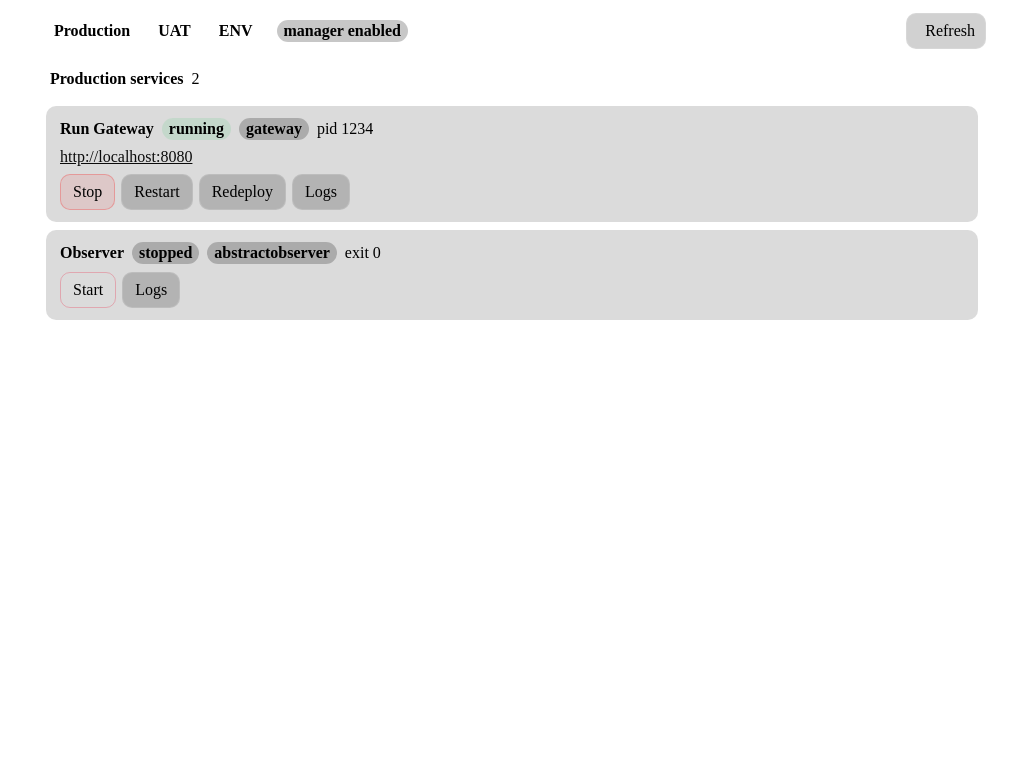
Scenario: ProcessesPage › opens the log modal and tails process logs
The image size is (1024, 768).
Expected: the text "Run Gateway" is shown, [60,120,154,138]
Click the button "Logs" below "http://localhost:8080": (321, 192) [292,174,350,210]
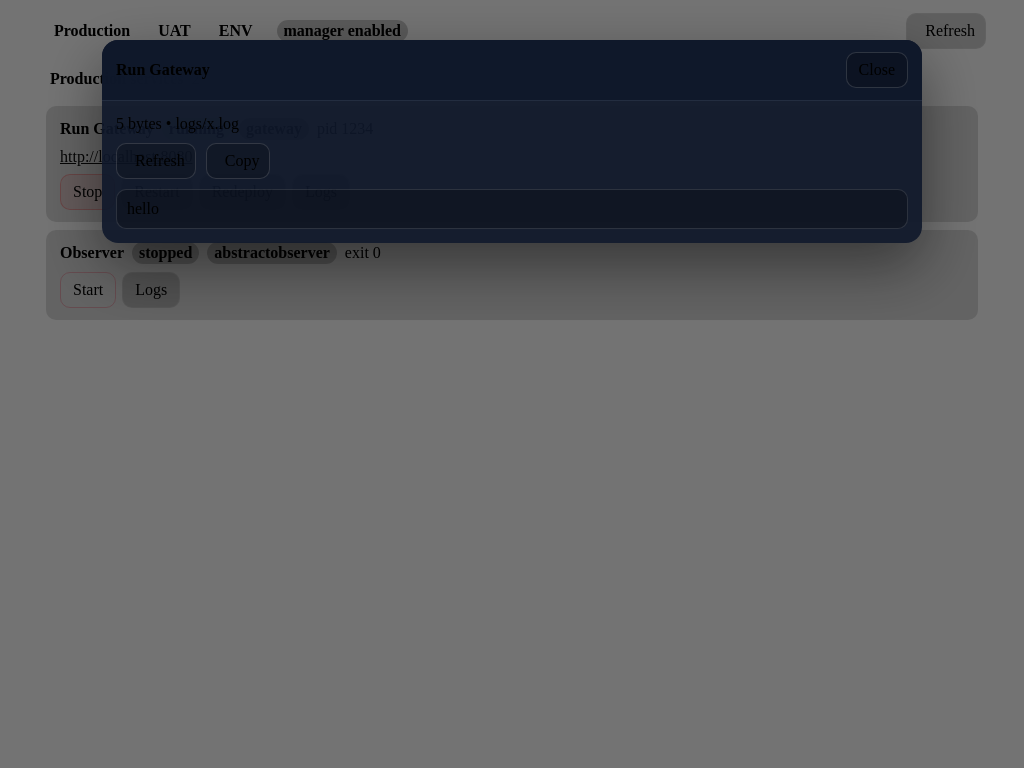
Now the text "hello" is shown, box [116,189,908,229]
